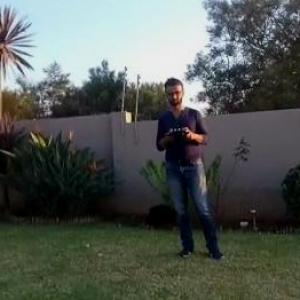follow: (154, 74, 234, 264)
